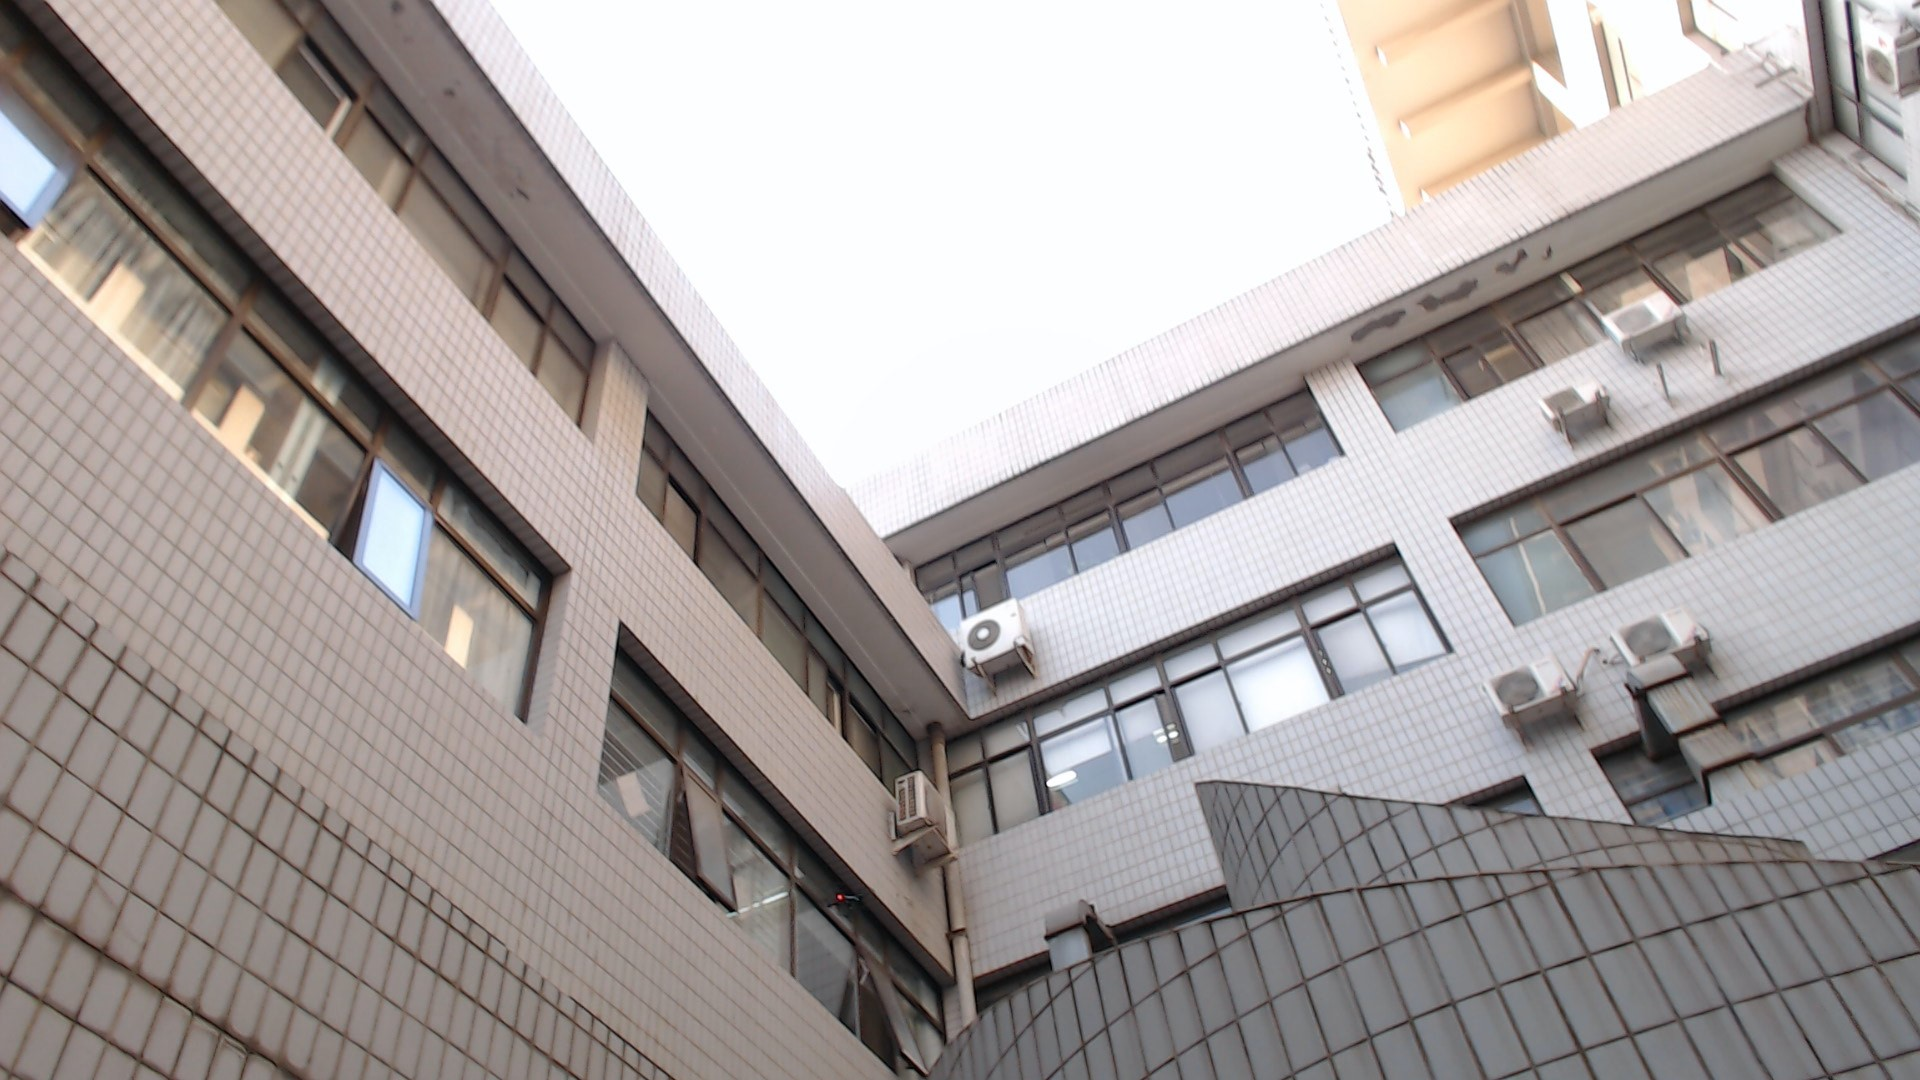drone: (810, 873, 881, 928)
